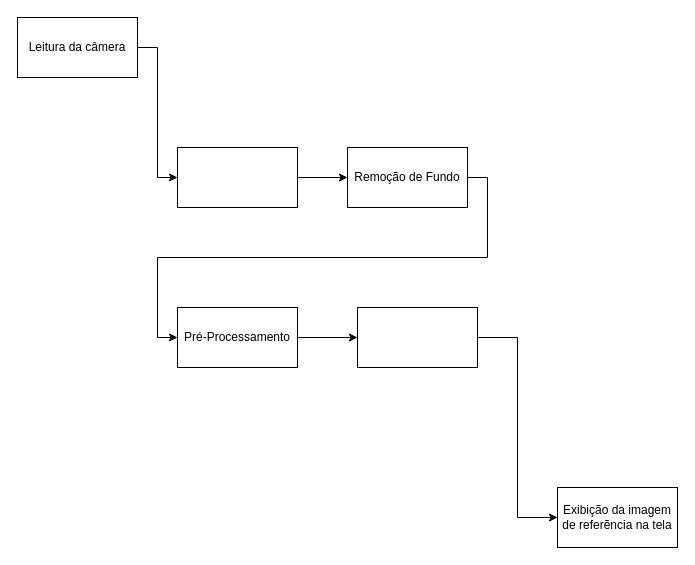
The diagram is 695 pixels wide and 565 high, and some of its shapes have lost their labels. Each missing label, with the box of its shape:
Comparação com imagens de referência: (356, 306, 478, 368)
Localização da Posição da Carta: (176, 146, 298, 208)
